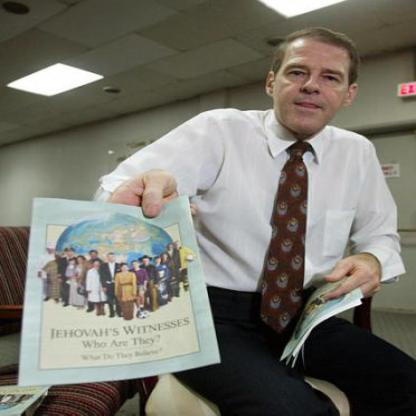face: (276, 31, 353, 134)
